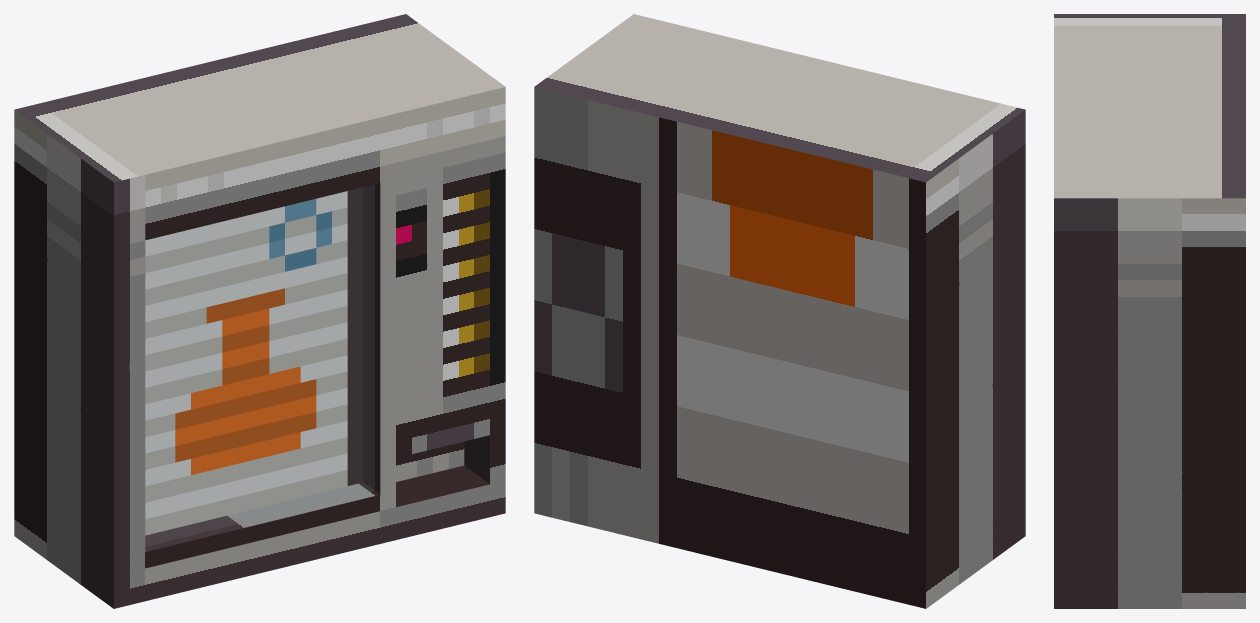
File: vending_drug.glb
3 renders of one model, left to right at view 1: azimuth 30°, elevation 25°; view 2: azimuth 150°, elevation 25°; view 3: azimuth 270°, elevation 25°, orthographic. The views are drawn at different scales.
Parts seen in each view (by area): view 1: vending_drug_Cabinet, vending_drug_Display_Insert, vending_drug_Display_Glass, vending_drug_Delivery_Flap; view 2: vending_drug_Cabinet; view 3: vending_drug_Cabinet.
Boxes of the visible parts, x1,y1,x2,y2 form: vending_drug_Cabinet: (14,14,505,608); vending_drug_Display_Insert: (145,187,363,535); vending_drug_Display_Glass: (146,185,374,545); vending_drug_Delivery_Flap: (396,441,464,481); vending_drug_Cabinet: (534,14,1025,608); vending_drug_Cabinet: (1054,14,1245,608).
Bounding box in the file's own units: 1.5 × 1.56 × 0.66.
3 materials, 2 textured.
